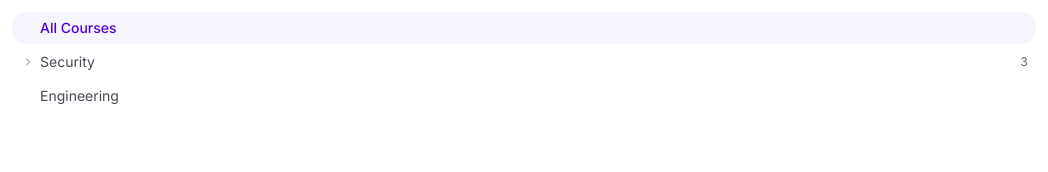
CatalogSidebar › expands a node when its chevron is clicked
// The first chevron is the expand toggle for the first node with children.
Click the 2nd button at (28,62), box left=20, top=54, right=36, bottom=70
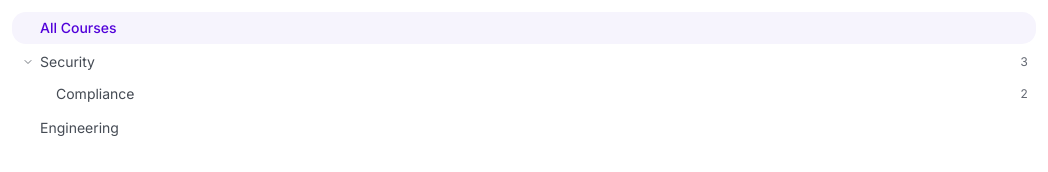
expect the button "Compliance" is shown: met, box left=56, top=84, right=1016, bottom=104
